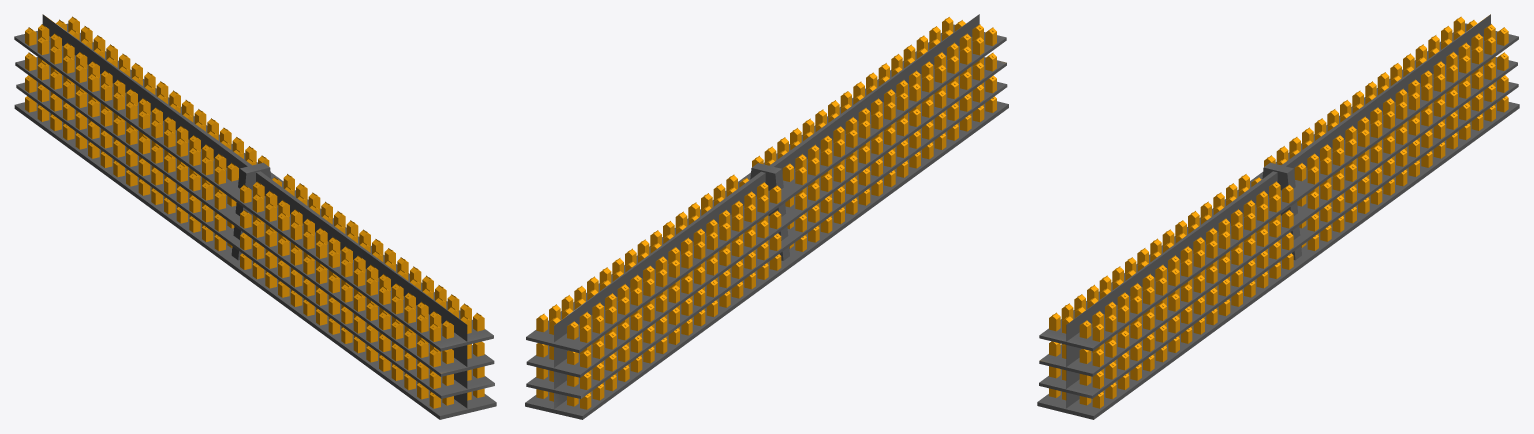
Rendered from EstanteriaJugo.obj.
The picture shows the model from 3 angles, left to right: view 1: azimuth 30°, elevation 25°; view 2: azimuth 150°, elevation 25°; view 3: azimuth 330°, elevation 25°; orthographic projection.
Parts seen in each view (by area): view 1: EstanteJugos; view 2: EstanteJugos; view 3: EstanteJugos.
Part boxes in pixels (x1=…): EstanteJugos: x1=14, y1=14, x2=496, y2=419; EstanteJugos: x1=525, y1=14, x2=1008, y2=419; EstanteJugos: x1=1037, y1=14, x2=1519, y2=419.
Bounding box in the file's own units: 1.4 × 2.1 × 18.26.
1 material, 1 textured.
